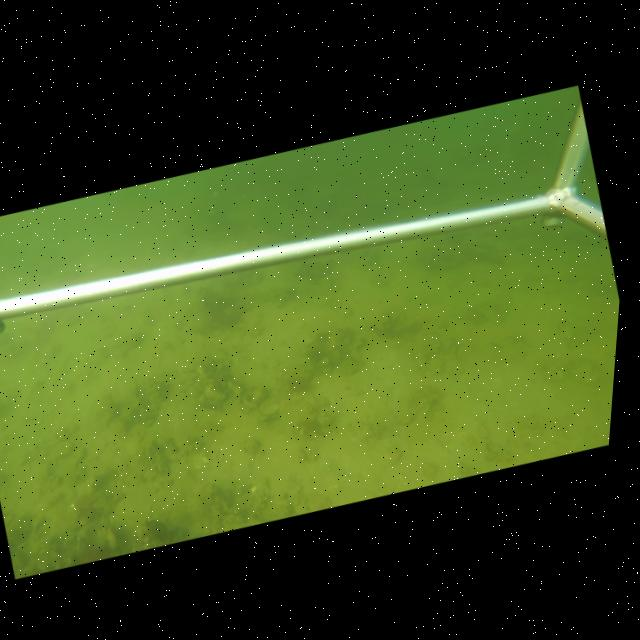Oyster-Indeterminate: (259, 402, 280, 418)
